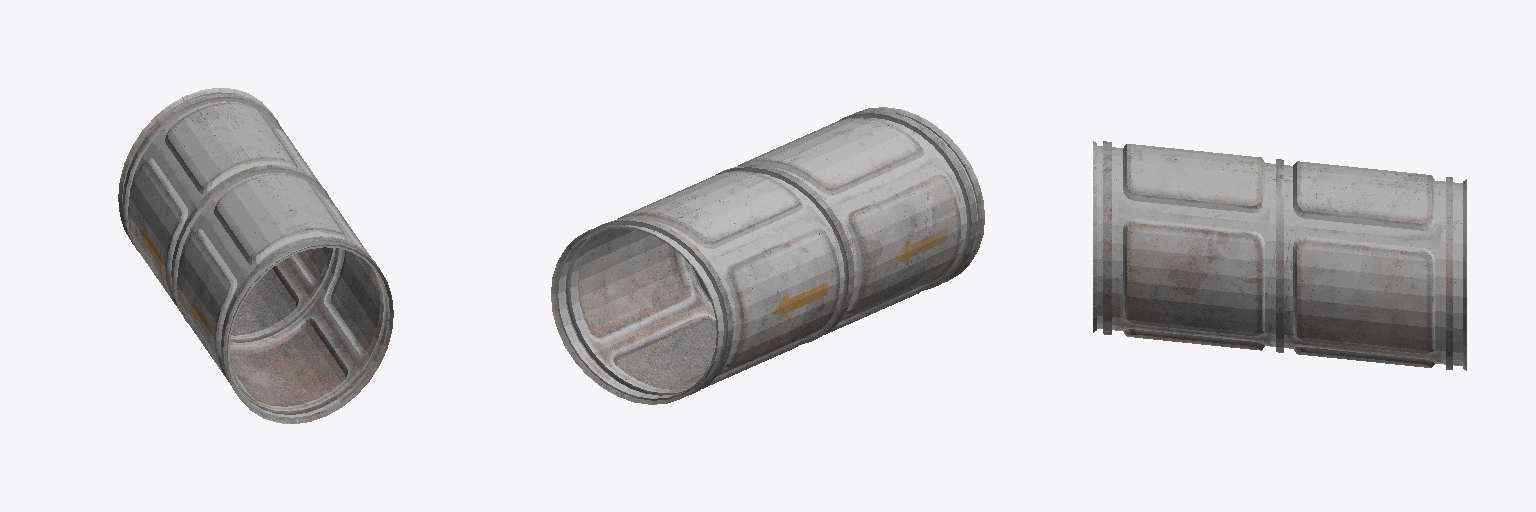
3 views of the same model, side by side, from view 1: azimuth 30°, elevation 25°; view 2: azimuth 150°, elevation 25°; view 3: azimuth 270°, elevation 25° (orthographic).
Visible parts, largest first — view 1: Cylinder003; view 2: Cylinder003; view 3: Cylinder003.
Boxes of the visible parts, x1,y1,x2,y2 form: Cylinder003: [118, 88, 393, 423]; Cylinder003: [551, 107, 984, 404]; Cylinder003: [1093, 141, 1466, 370].
Size of the model in its own units: 15.56 by 10.65 by 20.45.
1 materials, 1 textured.